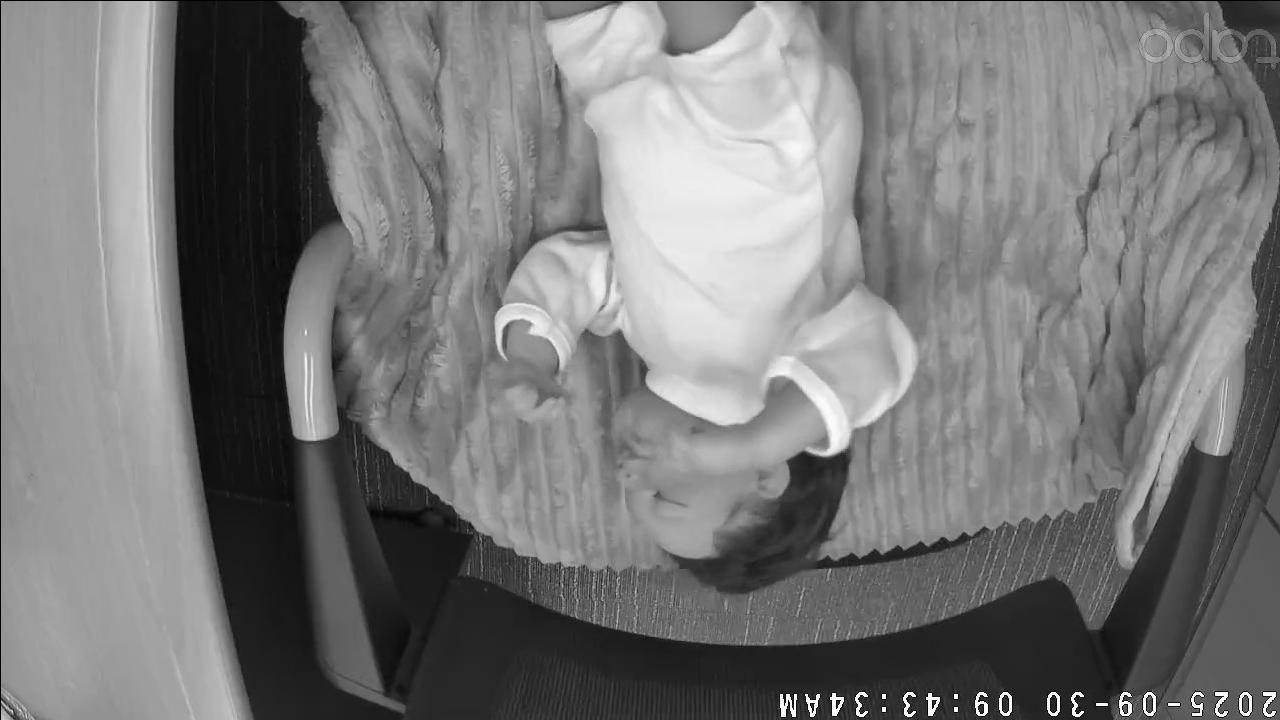hand: (499, 368, 577, 422), (664, 424, 743, 473)
